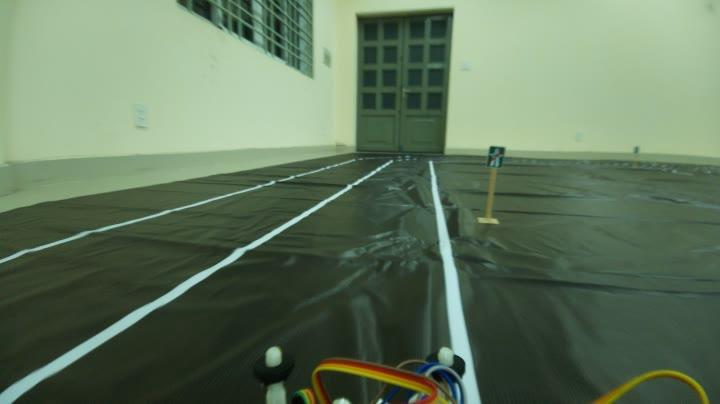highway_exit: (484, 138, 508, 174)
